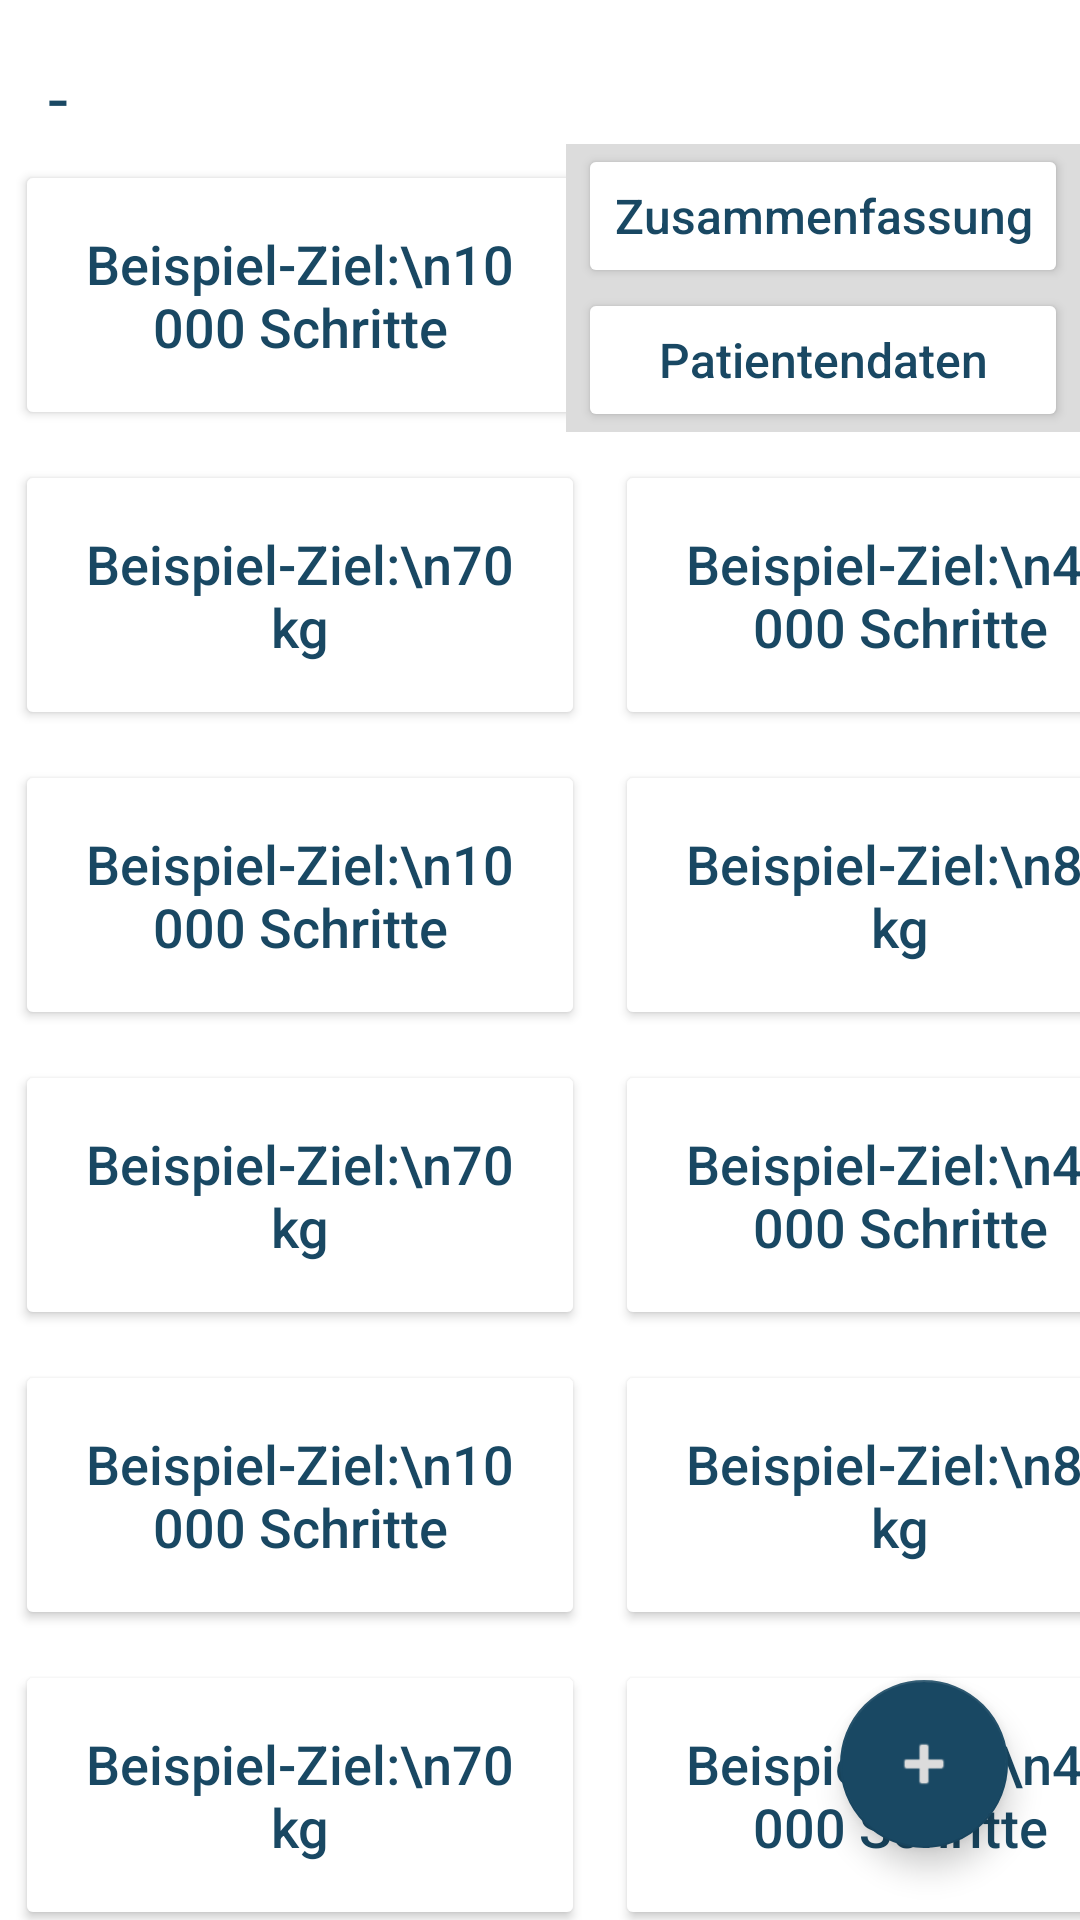

Icons on this 1080px×1920px Android screen, each with the point to tap as point (x, y):
Neues Gesundheitsziel erstellen: point (924, 1764)
